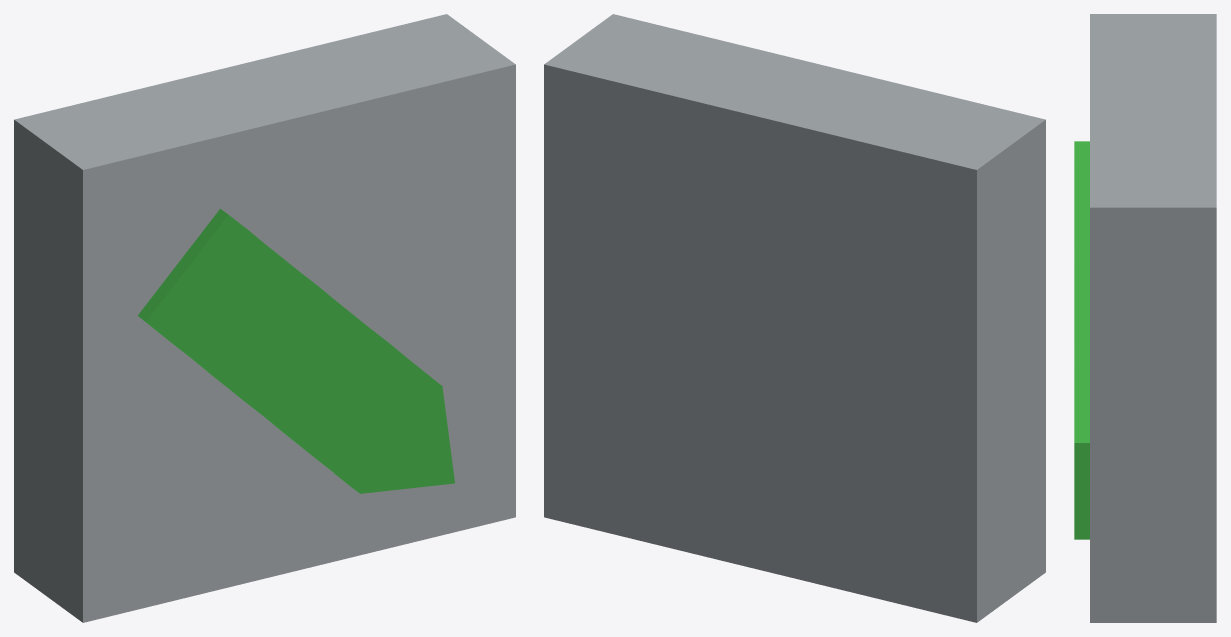
The model's file is tinker.obj.
The picture shows the model from 3 angles, left to right: view 1: azimuth 30°, elevation 25°; view 2: azimuth 150°, elevation 25°; view 3: azimuth 270°, elevation 25°; orthographic projection. The views are drawn at different scales.
Visible parts, largest first — view 1: group_0_10988977, group_0_4634441; view 2: group_0_10988977; view 3: group_0_10988977, group_0_4634441.
Boxes of the visible parts, x1,y1,x2,y2 form: group_0_10988977: (14, 14, 515, 622); group_0_4634441: (137, 208, 454, 493); group_0_10988977: (544, 14, 1045, 622); group_0_10988977: (1090, 14, 1216, 622); group_0_4634441: (1074, 141, 1089, 539).
Bounding box in the file's own units: 1 × 1 × 0.31.
